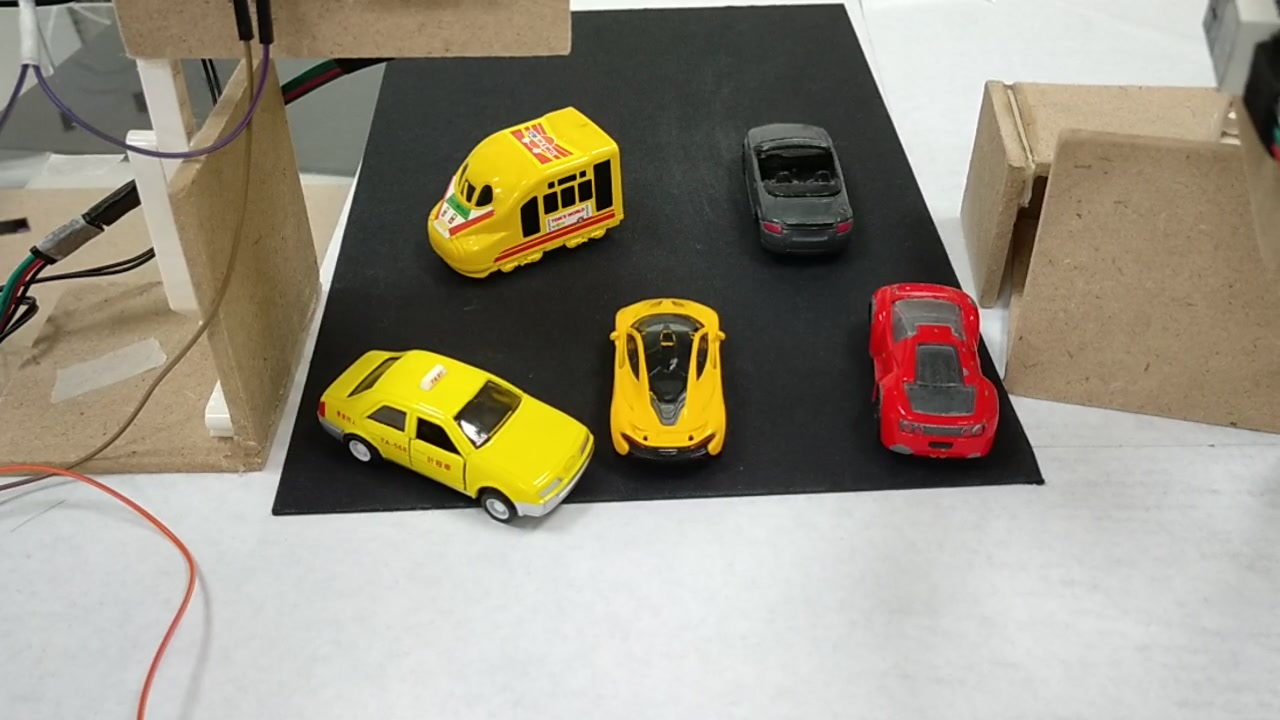car: (316, 340, 592, 539), (867, 277, 998, 461), (605, 299, 728, 467), (737, 124, 856, 258)
